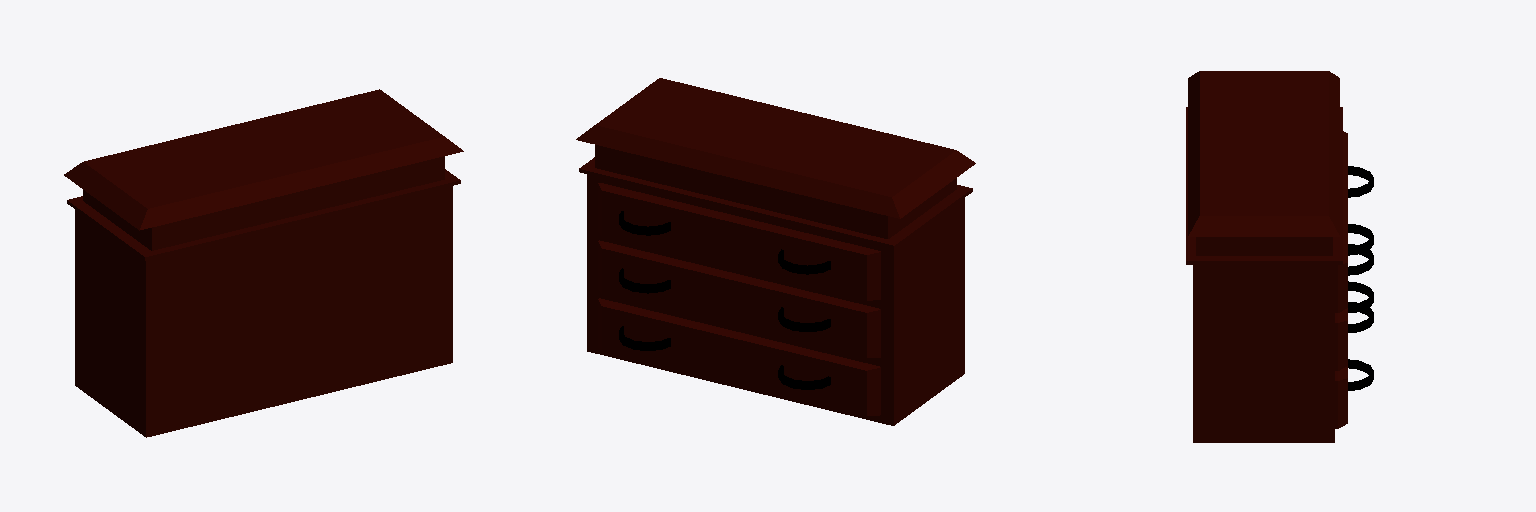
File: Dresser_02.obj
3 renders of one model, left to right at view 1: azimuth 30°, elevation 25°; view 2: azimuth 150°, elevation 25°; view 3: azimuth 270°, elevation 25°, orthographic.
Parts seen in each view (by area): view 1: Dresser_02_Cube.003; view 2: Dresser_02_Cube.003; view 3: Dresser_02_Cube.003.
Part boxes in pixels (left/top/right/bottom): Dresser_02_Cube.003: left=64, top=89, right=463, bottom=437; Dresser_02_Cube.003: left=576, top=78, right=975, bottom=425; Dresser_02_Cube.003: left=1186, top=71, right=1373, bottom=442.
Bounding box in the file's own units: 3.5 × 2.32 × 1.76.